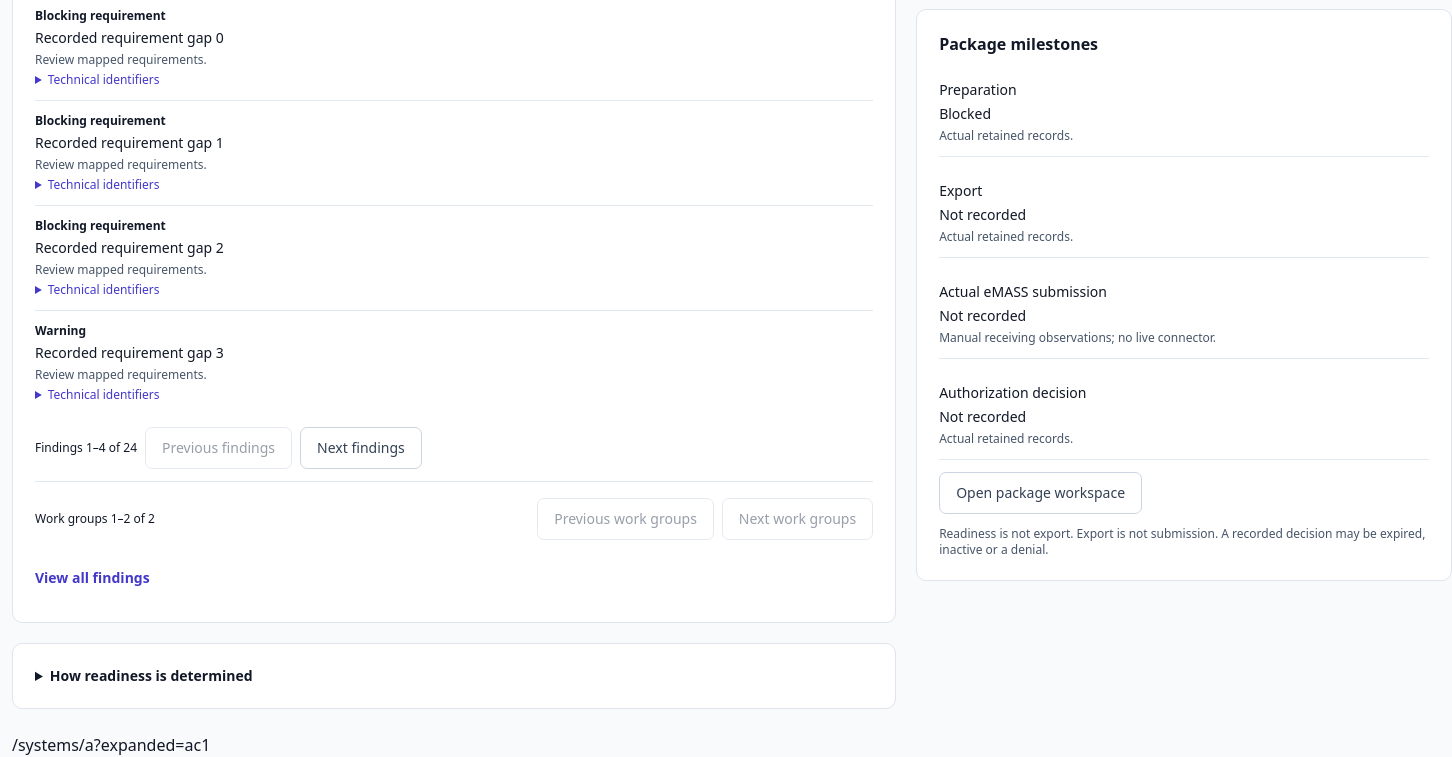
Test: RMF journey overview › paginates individual findings inside a group without losing other groups
(page scrolled)
Check: the text "Recorded requirement gap 0" is shown, box [35,28,224,46]
Click the button "Next findings".
click(361, 448)  # box [300,426,422,468]
(page scrolled)
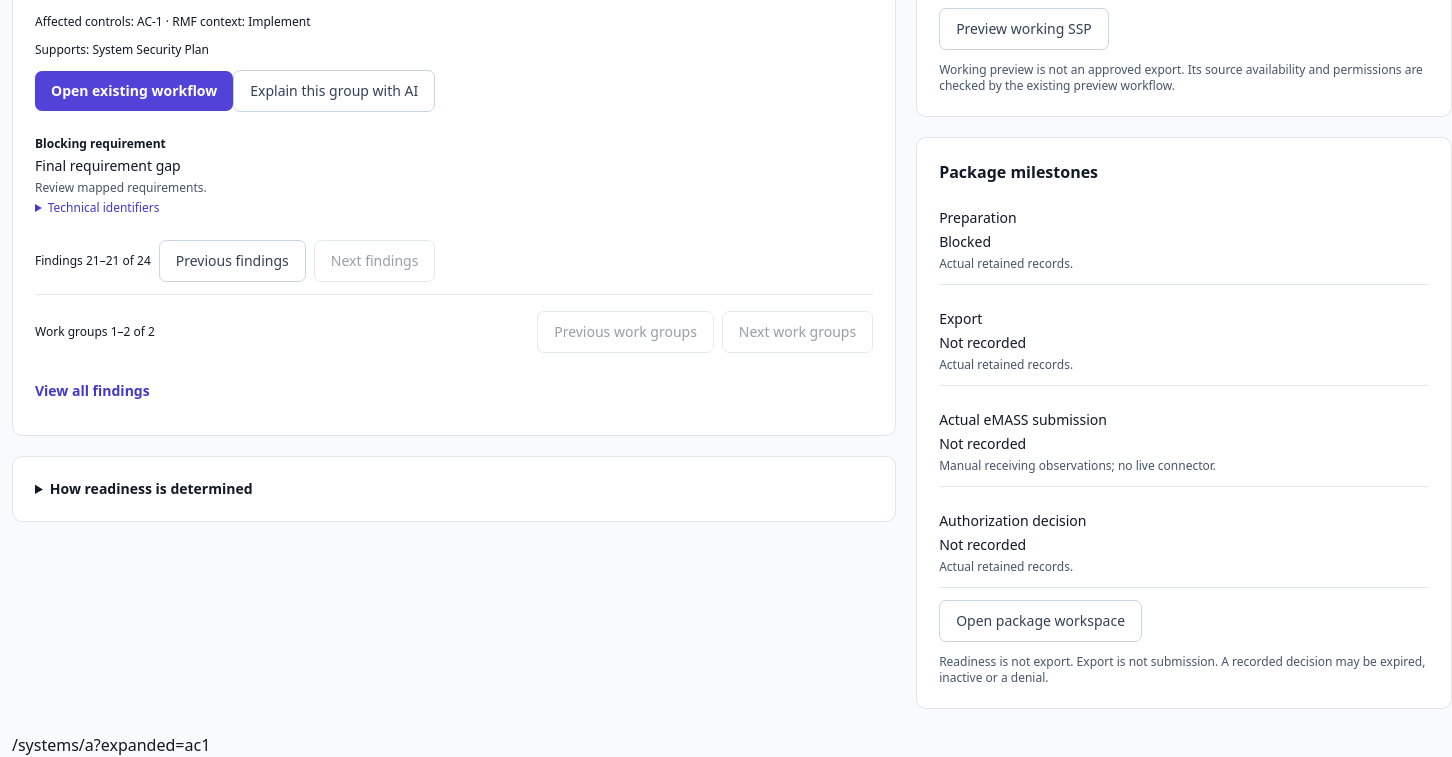
Check: the text "Final requirement gap" is shown, box [35,156,181,174]
Check: the button "Next findings" is disabled, box [314,240,435,282]
